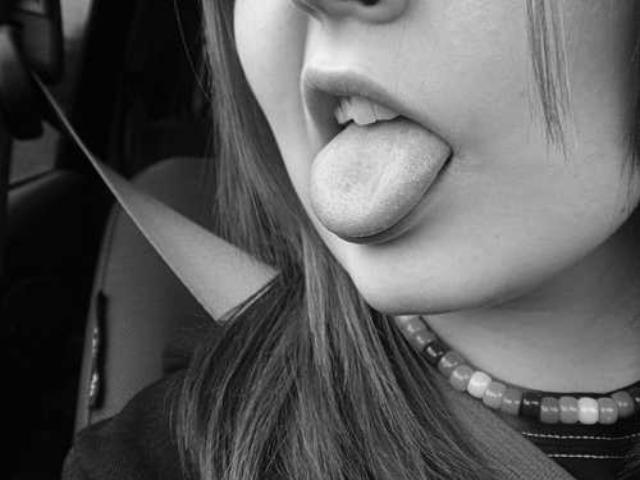Seatbelt: (5, 30, 285, 332)
